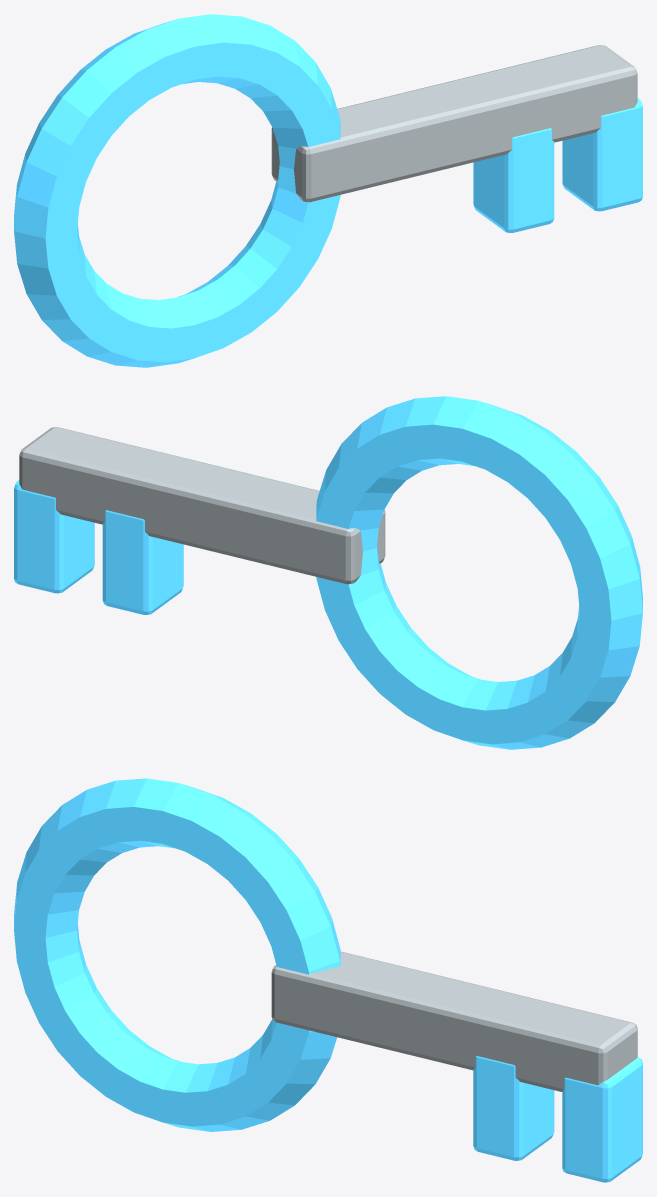
Rendered from Artifact_EDR.glb.
3 views of the same model, one above another, from view 1: azimuth 30°, elevation 25°; view 2: azimuth 150°, elevation 25°; view 3: azimuth 330°, elevation 25° (orthographic).
Visible parts, largest first — view 1: Artifact_EDR_Mesh; view 2: Artifact_EDR_Mesh; view 3: Artifact_EDR_Mesh.
Part boxes in pixels (x1,y1,x2,y2): Artifact_EDR_Mesh: (14,14,642,367); Artifact_EDR_Mesh: (14,396,642,749); Artifact_EDR_Mesh: (14,778,642,1182).
Size of the model in its own units: 0.622 by 0.334 by 0.065.
